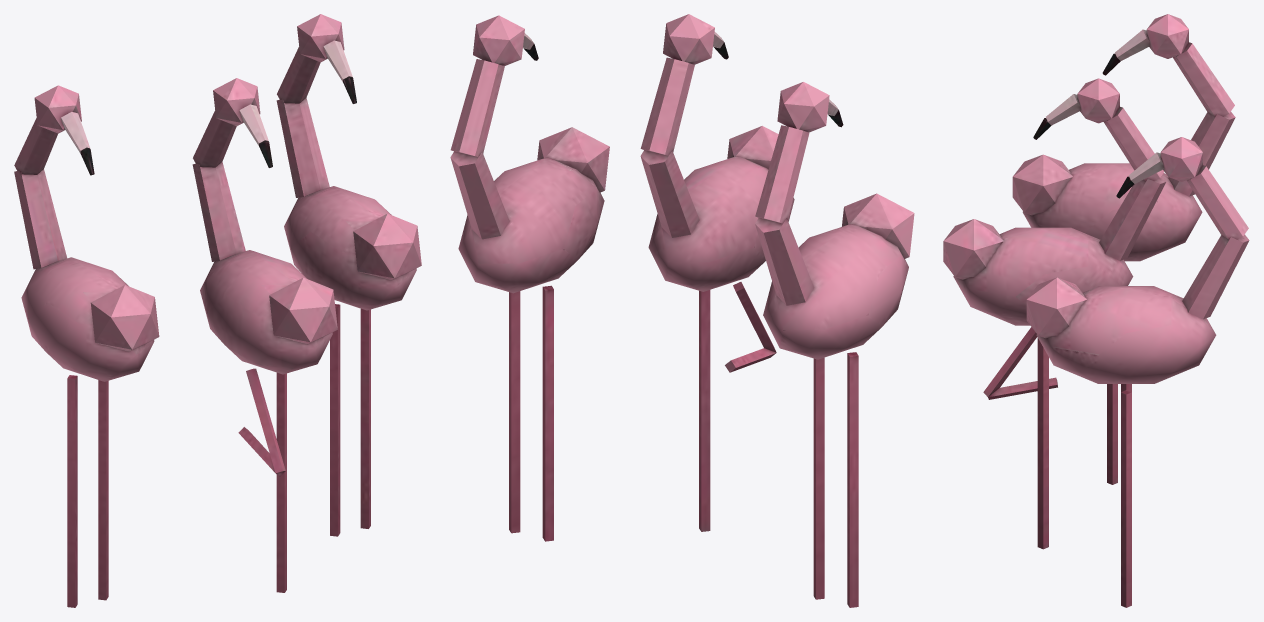
Rendered from flamencos.glb.
The picture shows the model from 3 angles, left to right: view 1: azimuth 30°, elevation 25°; view 2: azimuth 150°, elevation 25°; view 3: azimuth 270°, elevation 25°; orthographic projection. The views are drawn at different scales.
Parts seen in each view (by area): view 1: flamencos; view 2: flamencos; view 3: flamencos.
Boxes of the visible parts, bbox=[...] form: flamencos: bbox=[14, 14, 421, 607]; flamencos: bbox=[450, 14, 914, 607]; flamencos: bbox=[943, 14, 1249, 607].
Size of the model in its own units: 1.4 by 1.84 by 1.11.
1 material, 1 textured.
